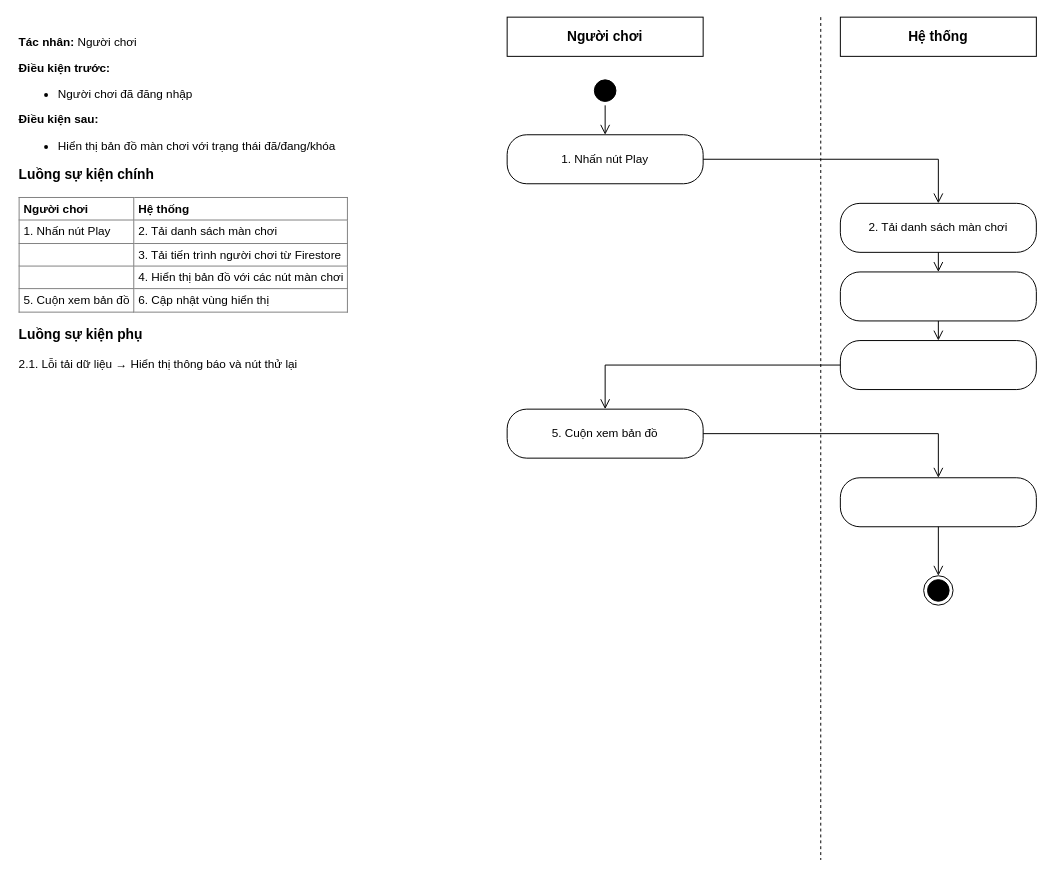
The diagram is 1054 pixels wide and 878 high, and some of its shapes have lost their labels. The centre of each missing label's shape, as x and y in pixels:
3. Tải tiến trình người chơi từ Firestore: the point at 937,296
4. Hiển thị bản đồ với các nút màn chơi: the point at 937,365
6. Cập nhật vùng hiển thị: the point at 937,502
